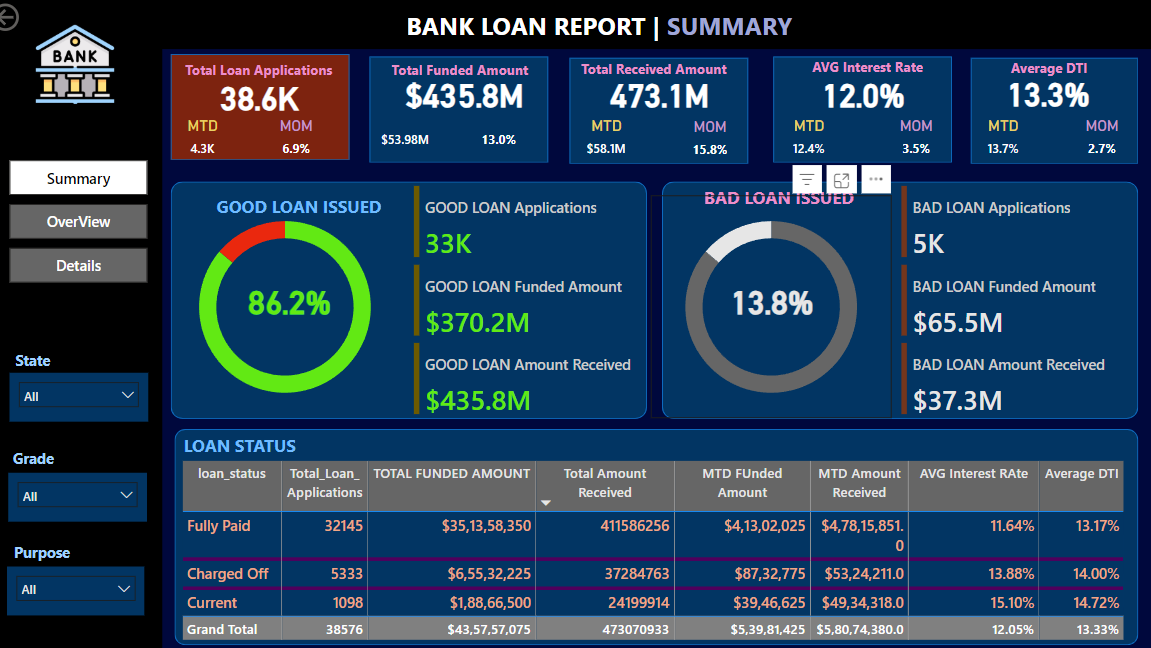

This screenshot's page, from the dashboard's own definition file:
{"tool":"powerbi","page":{"name":"Summary","canvas":[1280,720],"ordinal":0},"visuals":[{"type":"shape","box":[0,0,1280.3,54.9],"z":0},{"type":"card","fields":{"Values":["Date_Table.Average DTI"]},"box":[1089.5,52,144.9,99.6],"z":0,"group":"g1"},{"type":"card","fields":{"Values":["Date_Table.Total Amount Received"]},"box":[641.6,52.9,189,98.6],"z":0,"group":"g2"},{"type":"card","fields":{"Values":["Date_Table.TOTAL FUNDED AMOUNT"]},"box":[428.6,53.6,189,98.6],"z":0,"group":"g5"},{"type":"card","fields":{"Values":["Date_Table.AVG Interest RAte"]},"box":[864.8,53.6,189,98.6],"z":0,"group":"g3"},{"type":"card","fields":{"Values":["financial_loan.Total_Loan_Applications"]},"box":[204,57.5,189,98.6],"z":0,"group":"g4"},{"type":"slicer","fields":{"Values":["financial_loan.address_state"]},"box":[24.6,409.4,152,53.4],"z":0,"group":"g11"},{"type":"slicer","fields":{"Values":["financial_loan.grade"]},"box":[23.3,519,152,53.4],"z":0,"group":"g10"},{"type":"textbox","box":[24.6,590.2,299.9,31.5],"z":0,"group":"g9"},{"type":"textbox","box":[864,58.9,201.3,49.3],"z":1000,"group":"g3"},{"type":"textbox","box":[1067.9,60.2,154.7,50.7],"z":1000,"group":"g1"},{"type":"textbox","box":[629.6,60.7,201.3,49.3],"z":1000,"group":"g2"},{"type":"textbox","box":[197.2,63,201.3,49.3],"z":1000,"group":"g4"},{"type":"textbox","box":[438.1,63.8,201.3,49.3],"z":1000,"group":"g5"},{"type":"textbox","box":[26,379.3,110.9,49.3],"z":1000,"group":"g11"},{"type":"shape","box":[205.4,471,1055.7,236.9],"z":1000},{"type":"textbox","box":[23.3,487.5,301.2,31.5],"z":1000,"group":"g10"},{"type":"slicer","fields":{"Values":["financial_loan.purpose"]},"box":[21.9,621.7,150.6,53.4],"z":1000,"group":"g9"},{"type":"card","title":"MTD","fields":{"Values":["Date_Table.MTD Amount Received"]},"box":[576.5,128.2,204,54.8],"z":2000,"group":"g2"},{"type":"card","title":"MTD","fields":{"Values":["Date_Table.MTD Avg DTI"]},"box":[1035,128.6,156.1,56.1],"z":2000,"group":"g1"},{"type":"card","title":"MTD","fields":{"Values":["Date_Table.MTD_Loan_Applications"]},"box":[134.2,128.7,204,54.8],"z":2000,"group":"g4"},{"type":"card","title":"MTD","fields":{"Values":["Date_Table.MTD FUnded Amount"]},"box":[356,128.9,204,54.8],"z":2000,"group":"g5"},{"type":"card","title":"MTD","fields":{"Values":["Date_Table.MTD Avg Interest rate"]},"box":[797.7,129.5,204,54.8],"z":2000,"group":"g3"},{"type":"shape","box":[201.3,199.9,521.7,260.2],"z":2000},{"type":"card","title":"MOM","fields":{"Values":["Date_Table.MOM Applications"]},"box":[236.9,128.7,204,54.8],"z":3000,"group":"g4"},{"type":"card","title":"MOM","fields":{"Values":["Date_Table.MOM Funded Amount"]},"box":[458.7,128.9,204,54.8],"z":3000,"group":"g5"},{"type":"shape","box":[739.4,199.9,521.7,260.2],"z":3000},{"type":"card","title":"MOM","fields":{"Values":["Date_Table.MOM Avg DTI"]},"box":[1163.7,128.6,115,56.1],"z":4000,"group":"g1"},{"type":"card","title":"MOM","fields":{"Values":["Date_Table.MOM Avg int rate"]},"box":[915.9,129.5,204,54.8],"z":4000,"group":"g3"},{"type":"card","title":"MOM","fields":{"Values":["Date_Table.MOM Amount Received"]},"box":[689.5,129.6,204,54.8],"z":4000,"group":"g2"},{"type":"card","fields":{"Values":["Date_Table.Good Loan %"]},"box":[236.9,280.7,189,98.6],"z":4000},{"type":"textbox","box":[205.4,471,209.5,69.8],"z":5000},{"type":"shape","box":[638.1,63.4,195.8,116.4],"z":5500,"group":"g6"},{"type":"shape","box":[860.1,63.6,195.8,116.4],"z":5500,"group":"g7"},{"type":"shape","box":[1077.8,64.2,183.5,116.4],"z":5500,"group":"g8"},{"type":"group","id":"g1","title":"Group 1","box":[1035,52,243.7,132.8],"z":6000,"group":"g8"},{"type":"group","id":"g2","title":"Group 1","box":[576.5,52.9,317,131.5],"z":6000,"group":"g6"},{"type":"group","id":"g3","title":"Group 1","box":[797.7,53.6,322.2,130.7],"z":6000,"group":"g7"},{"type":"textbox","box":[780.5,199.9,201.3,60.2],"z":6000},{"type":"shape","box":[0,54.9,192,665],"z":7000},{"type":"textbox","box":[440.5,5.5,459.7,49.4],"z":8000},{"type":"shape","box":[201.3,60.2,195.8,116.4],"z":9000},{"type":"group","id":"g4","title":"Group 1","box":[134.2,57.5,306.7,126],"z":10000},{"type":"shape","box":[419,63,195.8,116.4],"z":11000},{"type":"donutChart","fields":{"Category":["financial_loan.Good VS Bad Loan"],"Y":["financial_loan.Total_Loan_Applications"]},"box":[194.4,215,264.3,245.1],"z":12000},{"type":"group","id":"g5","title":"Group 1","box":[356,53.6,306.7,130.1],"z":13000},{"type":"group","id":"g6","title":"Group 2","box":[576.5,52.9,317,131.5],"z":14000},{"type":"group","id":"g7","title":"Group 2","box":[797.7,53.6,322.2,130.7],"z":15000},{"type":"group","id":"g8","title":"Group 2","box":[1035,52,243.7,132.8],"z":16000},{"type":"cardVisual","fields":{"Data":["Date_Table.GOOD LOAN Appl","Date_Table.GOOD LOAN Funded Amount","Date_Table.GOOD LOAN Amount Received"]},"box":[462.8,199.9,264.3,260.2],"z":17000},{"type":"donutChart","fields":{"Category":["financial_loan.Good VS Bad Loan"],"Y":["financial_loan.Total_Loan_Applications"]},"box":[727.1,215,264.3,245.1],"z":18000},{"type":"card","fields":{"Values":["Date_Table.Bad Loan %"]},"box":[765.4,280.7,189,98.6],"z":19000},{"type":"cardVisual","fields":{"Data":["Date_Table.BAD LOAN Appl","Date_Table.BAD LOAN Funded Amount","Date_Table.BAD LOAN Amount Received"]},"box":[996.8,199.9,264.3,260.2],"z":20000},{"type":"tableEx","fields":{"Values":["financial_loan.loan_status","financial_loan.Total_Loan_Applications","Date_Table.TOTAL FUNDED AMOUNT","Date_Table.Total Amount Received","Date_Table.MTD FUnded Amount","Date_Table.MTD Amount Received","Date_Table.AVG Interest RAte","Date_Table.Average DTI"]},"box":[208.1,501.2,1062.6,206.8],"z":21000},{"type":"textbox","box":[246.9,209.9,209.5,69.8],"z":22000},{"type":"actionButton","box":[0,0,100,40],"z":23000},{"type":"group","id":"g9","title":"Group 3","box":[21.9,590.2,302.6,84.9],"z":24000},{"type":"group","id":"g10","title":"Group 4","box":[23.3,487.5,301.2,84.9],"z":25000},{"type":"group","id":"g11","title":"Group 5","box":[24.6,379.3,152,83.5],"z":26000},{"type":"image","box":[35.6,20.5,121.9,101.3],"z":27000},{"type":"pageNavigator","box":[24.6,176.6,152,135.6],"z":28000}]}

Visuals, with their boxes on the page's 1280x720 design canvas (x1, y1, x2, y2). These are canvas units, not pixel positions in the 1151x648 screenshot, which may show the page scaled, cropped or inside an application window:
shape: (0, 0, 1280, 55)
card - Date_Table.Average DTI: (1090, 52, 1234, 152)
card - Date_Table.Total Amount Received: (642, 53, 831, 152)
card - Date_Table.TOTAL FUNDED AMOUNT: (429, 54, 618, 152)
card - Date_Table.AVG Interest RAte: (865, 54, 1054, 152)
card - financial_loan.Total_Loan_Applications: (204, 58, 393, 156)
slicer - financial_loan.address_state: (25, 409, 177, 463)
slicer - financial_loan.grade: (23, 519, 175, 572)
textbox: (25, 590, 324, 622)
textbox: (864, 59, 1065, 108)
textbox: (1068, 60, 1223, 111)
textbox: (630, 61, 831, 110)
textbox: (197, 63, 398, 112)
textbox: (438, 64, 639, 113)
textbox: (26, 379, 137, 429)
shape: (205, 471, 1261, 708)
textbox: (23, 488, 324, 519)
slicer - financial_loan.purpose: (22, 622, 172, 675)
"MTD" card: (576, 128, 780, 183)
"MTD" card: (1035, 129, 1191, 185)
"MTD" card: (134, 129, 338, 184)
"MTD" card: (356, 129, 560, 184)
"MTD" card: (798, 130, 1002, 184)
shape: (201, 200, 723, 460)
"MOM" card: (237, 129, 441, 184)
"MOM" card: (459, 129, 663, 184)
shape: (739, 200, 1261, 460)
"MOM" card: (1164, 129, 1279, 185)
"MOM" card: (916, 130, 1120, 184)
"MOM" card: (690, 130, 894, 184)
card - Date_Table.Good Loan %: (237, 281, 426, 379)
textbox: (205, 471, 415, 541)
shape: (638, 63, 834, 180)
shape: (860, 64, 1056, 180)
shape: (1078, 64, 1261, 181)
"Group 1" group: (1035, 52, 1279, 185)
"Group 1" group: (576, 53, 894, 184)
"Group 1" group: (798, 54, 1120, 184)
textbox: (780, 200, 982, 260)
shape: (0, 55, 192, 720)
textbox: (440, 6, 900, 55)
shape: (201, 60, 397, 177)
"Group 1" group: (134, 58, 441, 184)
shape: (419, 63, 615, 179)
donutChart - financial_loan.Good VS Bad Loan x financial_loan.Total_Loan_Applications: (194, 215, 459, 460)
"Group 1" group: (356, 54, 663, 184)
"Group 2" group: (576, 53, 894, 184)
"Group 2" group: (798, 54, 1120, 184)
"Group 2" group: (1035, 52, 1279, 185)
cardVisual - Date_Table.GOOD LOAN Appl x Date_Table.GOOD LOAN Funded Amount: (463, 200, 727, 460)
donutChart - financial_loan.Good VS Bad Loan x financial_loan.Total_Loan_Applications: (727, 215, 991, 460)
card - Date_Table.Bad Loan %: (765, 281, 954, 379)
cardVisual - Date_Table.BAD LOAN Appl x Date_Table.BAD LOAN Funded Amount: (997, 200, 1261, 460)
tableEx - financial_loan.loan_status x financial_loan.Total_Loan_Applications: (208, 501, 1271, 708)
textbox: (247, 210, 456, 280)
actionButton: (0, 0, 100, 40)
"Group 3" group: (22, 590, 324, 675)
"Group 4" group: (23, 488, 324, 572)
"Group 5" group: (25, 379, 177, 463)
image: (36, 20, 158, 122)
pageNavigator: (25, 177, 177, 312)
